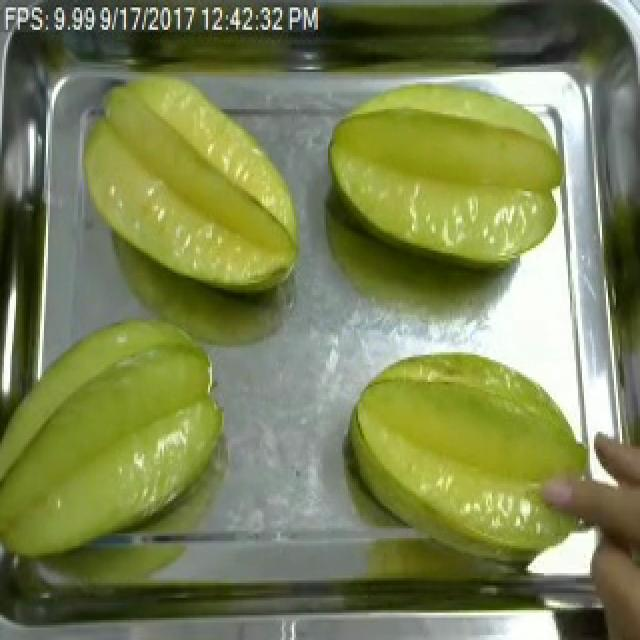fruit: (0, 300, 240, 573), (340, 335, 600, 573), (68, 62, 314, 305), (314, 70, 574, 276), (580, 526, 640, 640)
